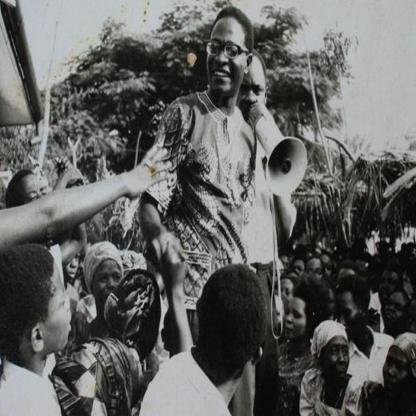face: (208, 26, 247, 91), (40, 282, 72, 352), (238, 66, 266, 125), (96, 262, 123, 311), (384, 354, 410, 397), (24, 182, 49, 225), (327, 338, 350, 384), (340, 297, 360, 341), (286, 303, 308, 338), (64, 242, 81, 280), (380, 273, 399, 304), (308, 265, 323, 293), (357, 264, 371, 294), (279, 284, 293, 312), (322, 289, 336, 316), (387, 300, 403, 323), (320, 258, 332, 282), (408, 308, 416, 344), (280, 258, 291, 280), (294, 263, 305, 284)
